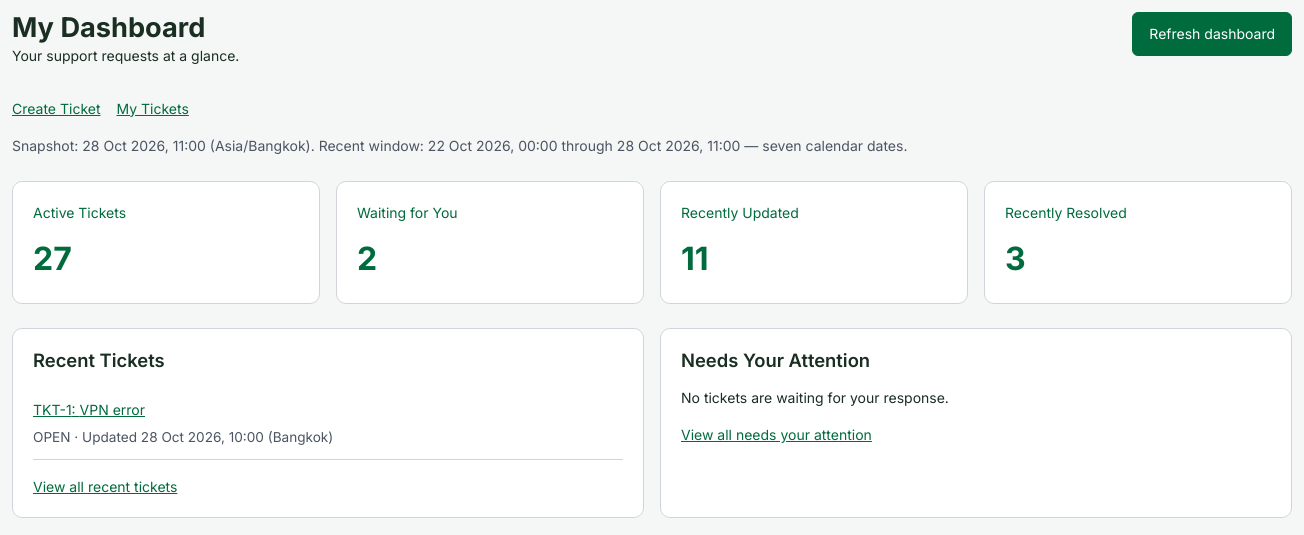
it: Requester dashboard states › clears old data on authorization error 401
Expected: the link with aria-label "Active Tickets: 27" is shown, left=12, top=181, right=320, bottom=304
Click the button "Refresh dashboard": (1212, 34) left=1132, top=12, right=1292, bottom=56
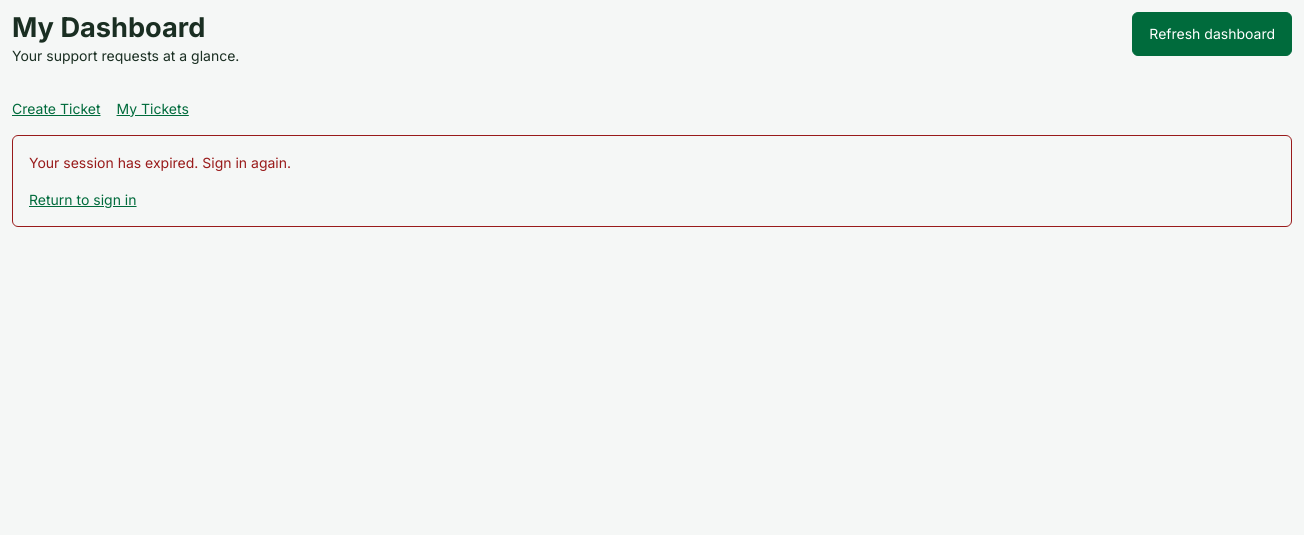
Now the message "Your session has expired. Sign in again. Return to sign in" is shown, box left=12, top=135, right=1292, bottom=227
Now the link "Return to sign in" is shown, box left=29, top=191, right=136, bottom=208
